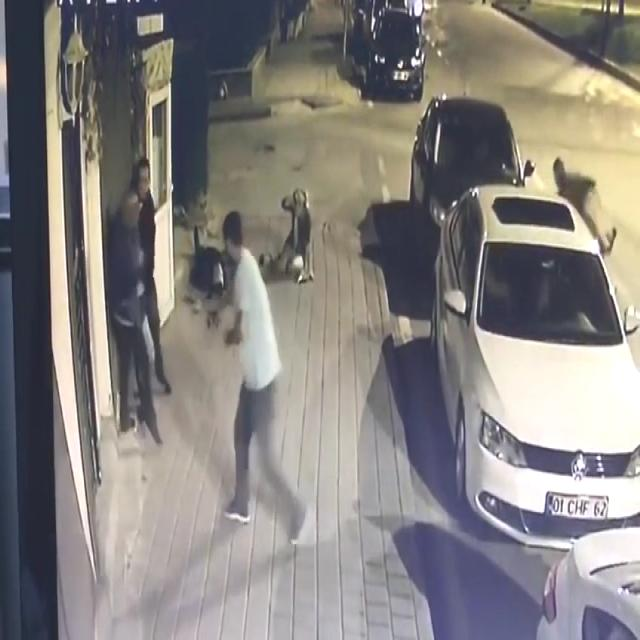fight: (108, 154, 176, 461)
